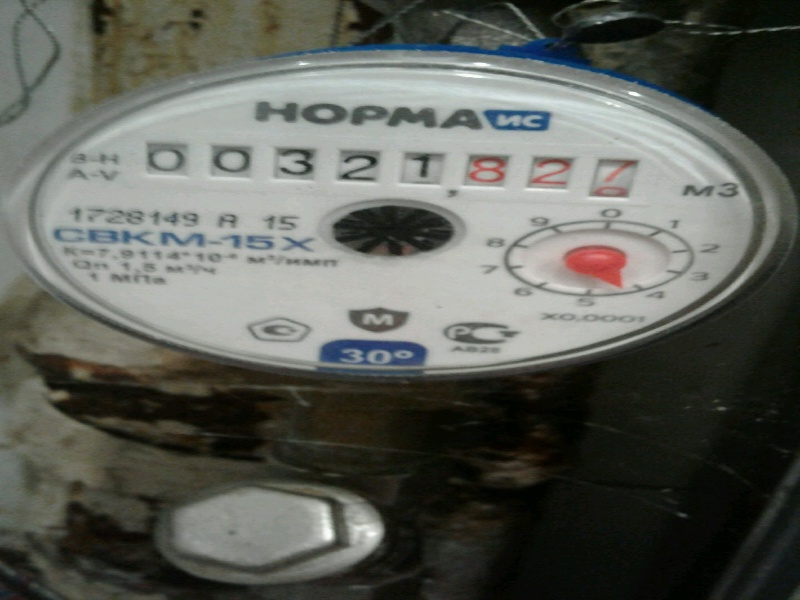meter: (136, 133, 651, 209)
